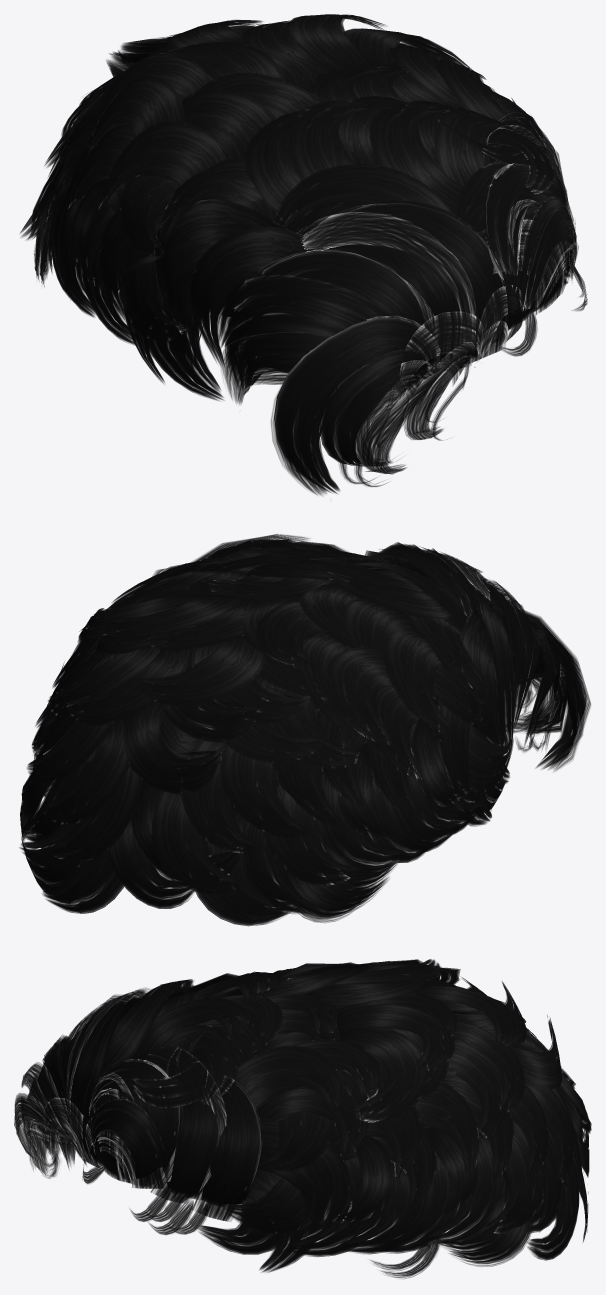
Rendered from diamond_wavy_03 TexturedWavesPOSISIOK.glb.
3 views of the same model, one above another, from view 1: azimuth 30°, elevation 25°; view 2: azimuth 150°, elevation 25°; view 3: azimuth 270°, elevation 25° (orthographic). The views are drawn at different scales.
Visible parts, largest first — view 1: oblong wavy 03 taper fade; view 2: oblong wavy 03 taper fade; view 3: oblong wavy 03 taper fade.
Boxes of the visible parts, bbox=[...] form: oblong wavy 03 taper fade: bbox=[20, 14, 587, 495]; oblong wavy 03 taper fade: bbox=[19, 534, 590, 926]; oblong wavy 03 taper fade: bbox=[14, 959, 591, 1278].
Bounding box in the file's own units: 0.1638 × 0.1062 × 0.2281.
Materials: 1 (1 with a texture image).
